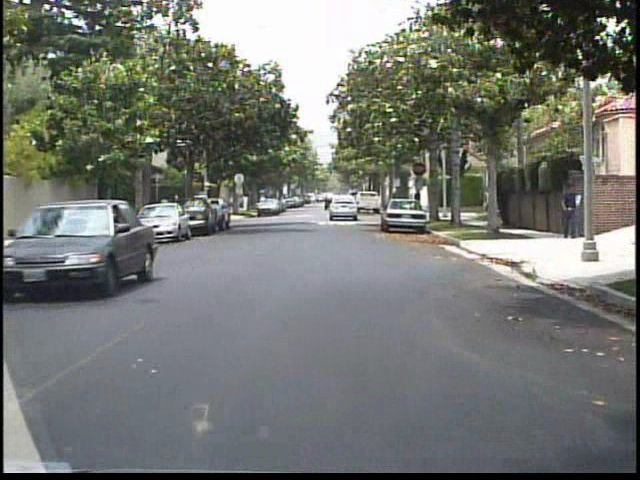person: (557, 177, 581, 243), (158, 191, 174, 232)
